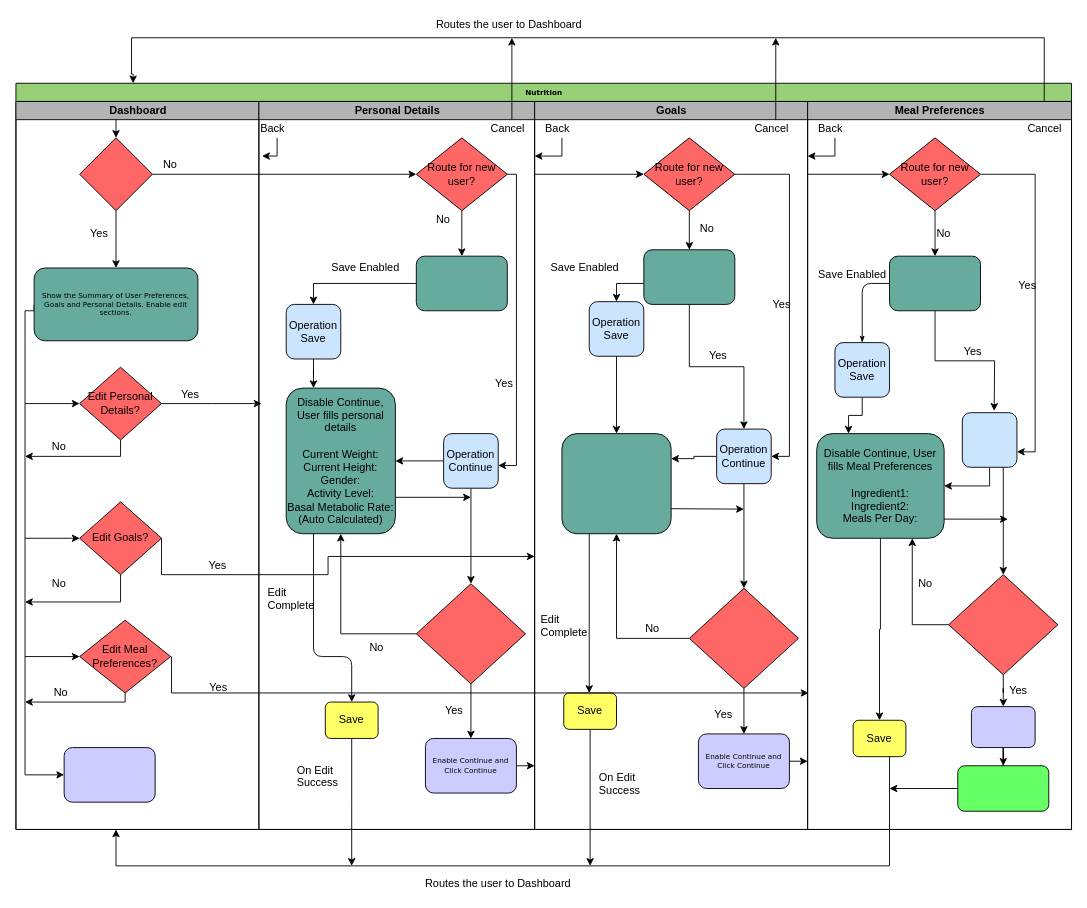
Some shapes in this 1087 by 908 pixel diagram are drawn without their labels. Each missing label, with the centre of its shape:
Are all the Goal Details Filled?: (743,637)
Are all the Meal Details Filled?: (1003,624)
Are all the personal Details Filled?: (470,633)
Disable Continue, User fills Goal details Goal Weight: Time Frame:: (616,483)
Display Meal Preferences: (935,283)
Display User Goal Details: (689,276)
Display User Personal Details: (461,283)
Enable Finish and on click: (1003,727)
If user Exists: (115,174)
Notification that Profile is successfully set: (1003,788)
Okay: (109,774)
Operation Finish: (989,439)
